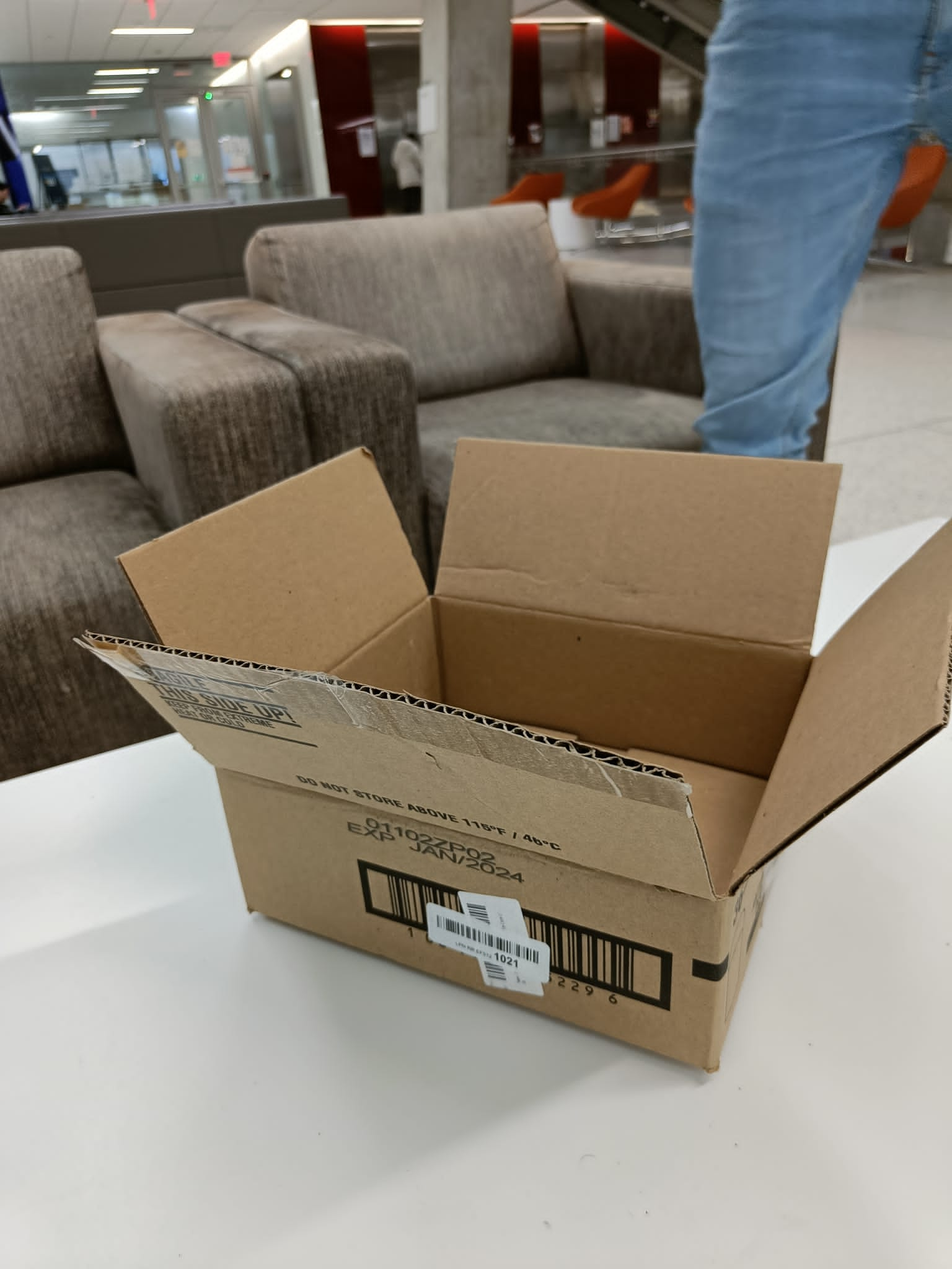box: (77, 436, 952, 1074)
crushed: (77, 431, 952, 902)
